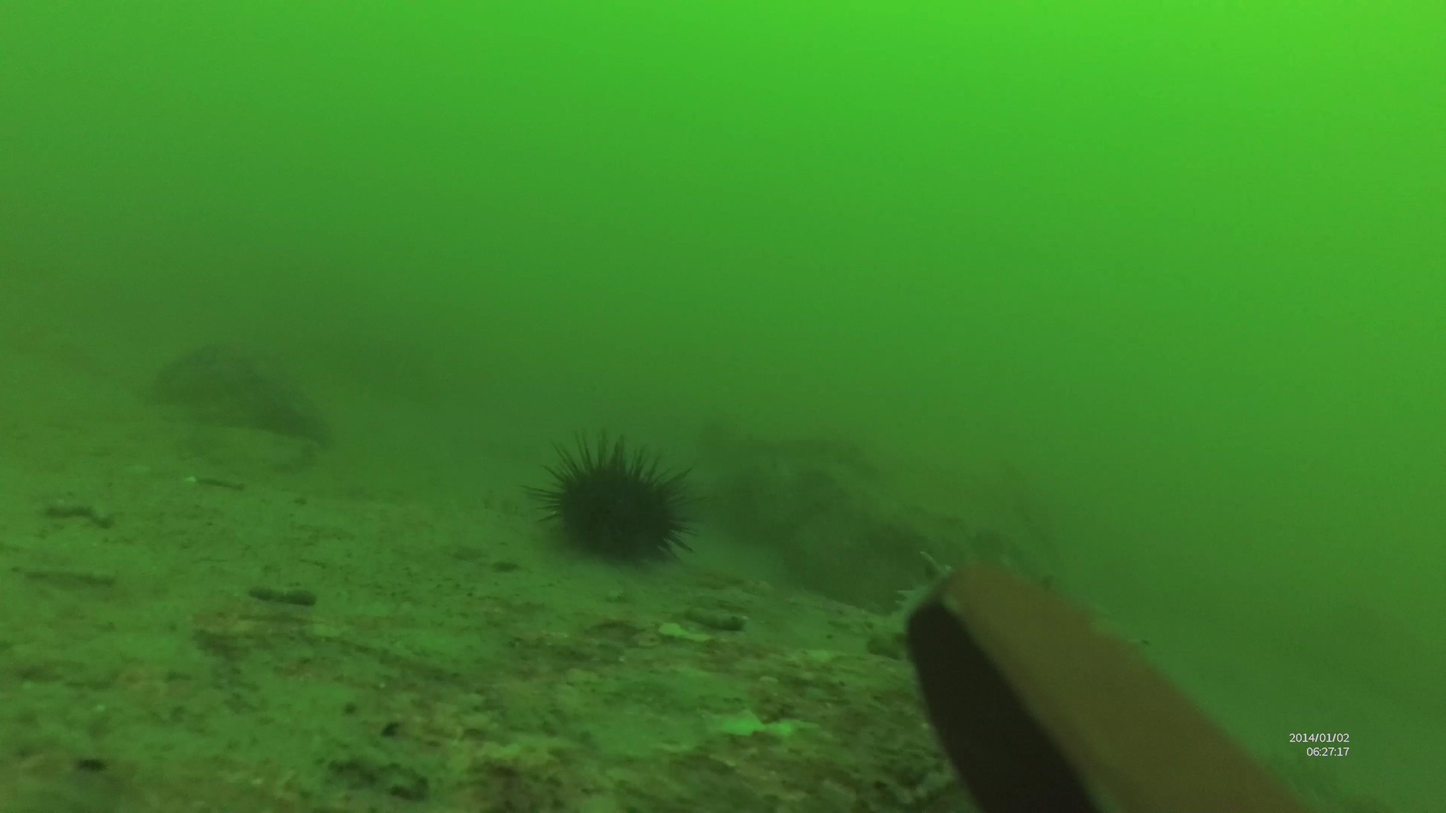starfish: (532, 429, 699, 554)
